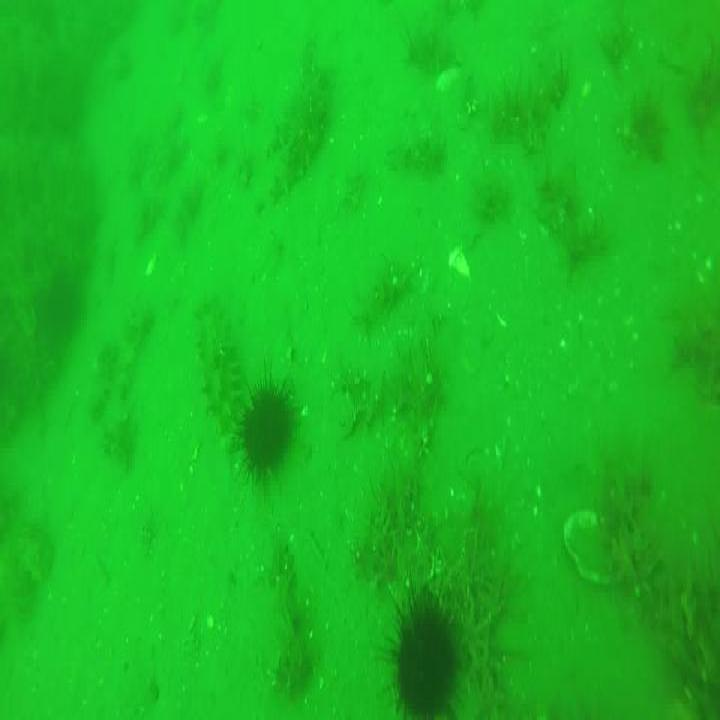echinus: (381, 599, 457, 720), (235, 363, 297, 494)
scallop: (564, 512, 641, 588)
